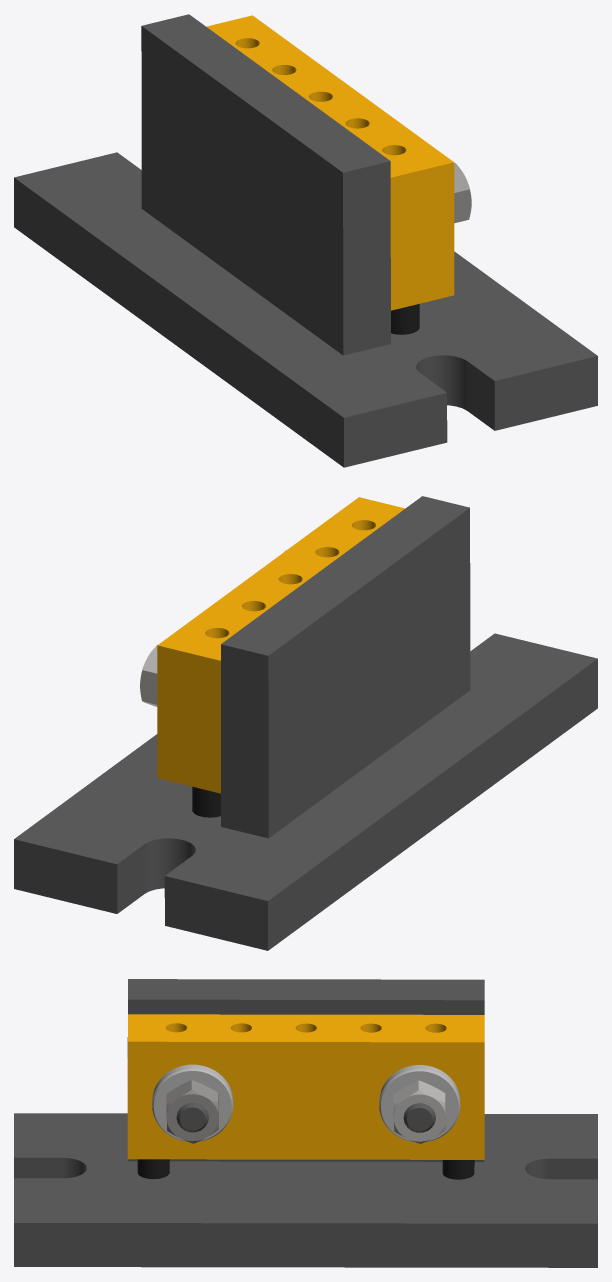
3 renders of one model, top to bottom at view 1: azimuth 30°, elevation 25°; view 2: azimuth 150°, elevation 25°; view 3: azimuth 270°, elevation 25°, orthographic. The views are drawn at different scales.
Visible parts, largest first — view 1: 1_com_peca; view 2: 1_com_peca; view 3: 1_com_peca.
Part boxes in pixels (x1,y1,x2,y2): 1_com_peca: (14, 14, 597, 467); 1_com_peca: (14, 496, 597, 950); 1_com_peca: (14, 979, 597, 1267).
Bounding box in the file's own units: 2.76 × 2.42 × 6.2.
